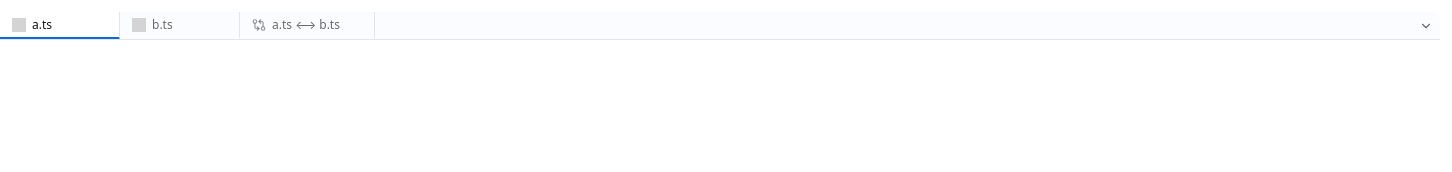
it: EditorTabsBar 溢出下拉列表 › 有 Tab 时渲染溢出按钮,点击展开后列出全部 Tab 与对比项
Click the button with test id "tabs-overflow" at (1426, 26), box x1=1412 y1=12 x2=1440 y2=40
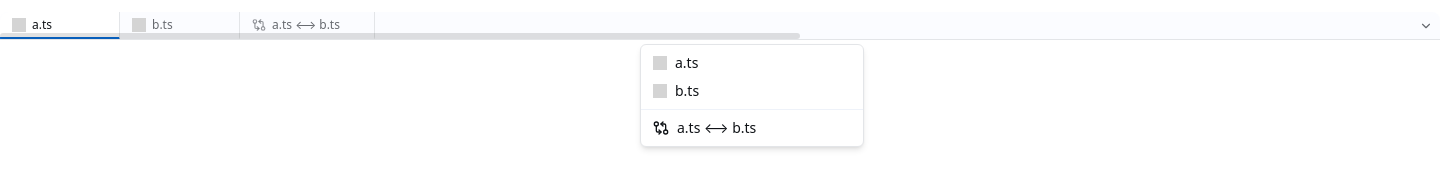
Expected: the menu with test id "tabs-overflow-menu" is shown, x1=640 y1=44 x2=864 y2=147
Expected: the menu item with test id "tabs-overflow-item-a.ts" is shown, x1=653 y1=53 x2=698 y2=72
Expected: the menu item with test id "tabs-overflow-item-b.ts" is shown, x1=653 y1=81 x2=699 y2=100
